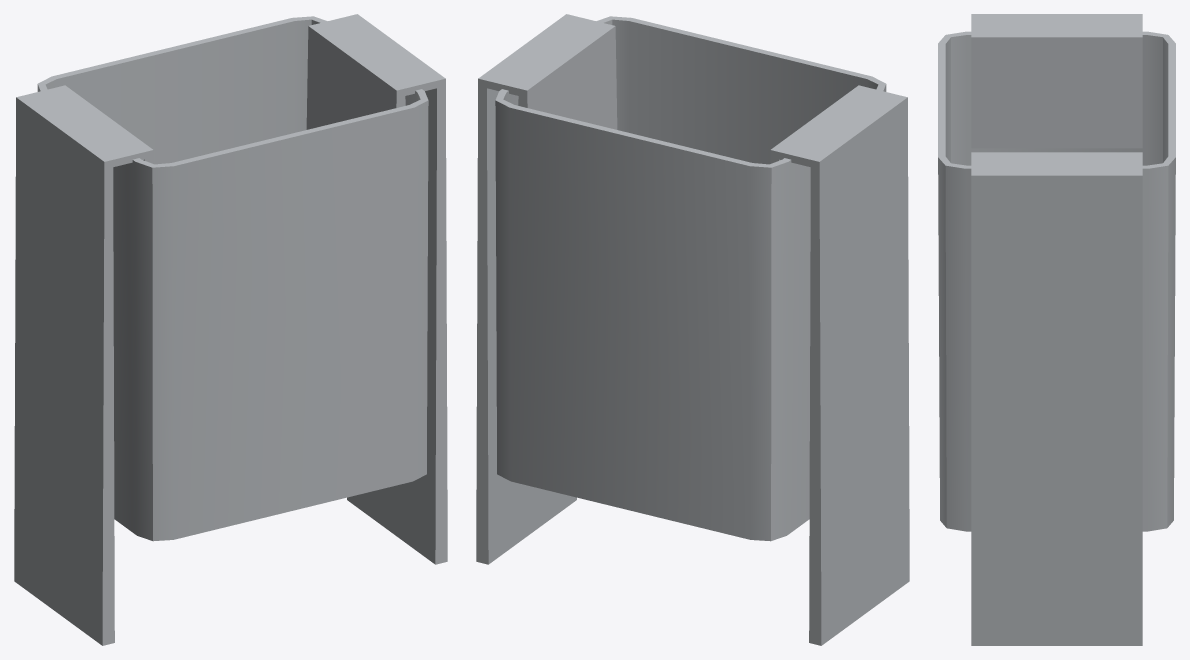
Rendered from SM_trashbin_01.fbx.
3 renders of one model, left to right at view 1: azimuth 30°, elevation 25°; view 2: azimuth 150°, elevation 25°; view 3: azimuth 270°, elevation 25°, orthographic. The views are drawn at different scales.
Parts seen in each view (by area): view 1: Box229; view 2: Box229; view 3: Box229.
Part boxes in pixels (bbox=[...]): Box229: bbox=[14, 14, 447, 645]; Box229: bbox=[476, 14, 909, 645]; Box229: bbox=[938, 14, 1175, 645].
Bounding box in the file's own units: 18.42 × 11.32 × 24.65.
